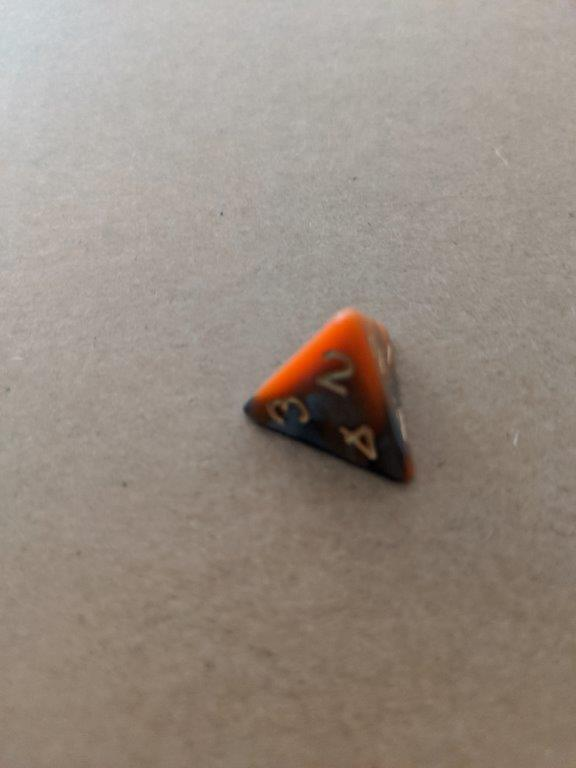d4-2: (239, 304, 415, 496)
